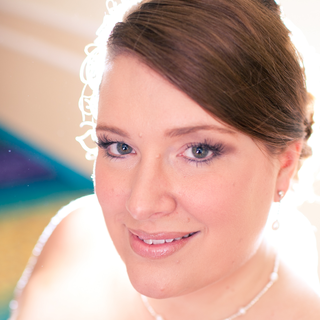eye: (94, 134, 141, 164), (176, 141, 224, 165)
